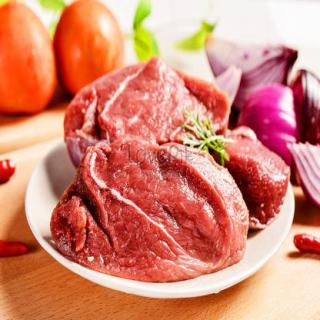Daging Sapi: (50, 148, 249, 287), (67, 59, 231, 171), (214, 130, 293, 232)
